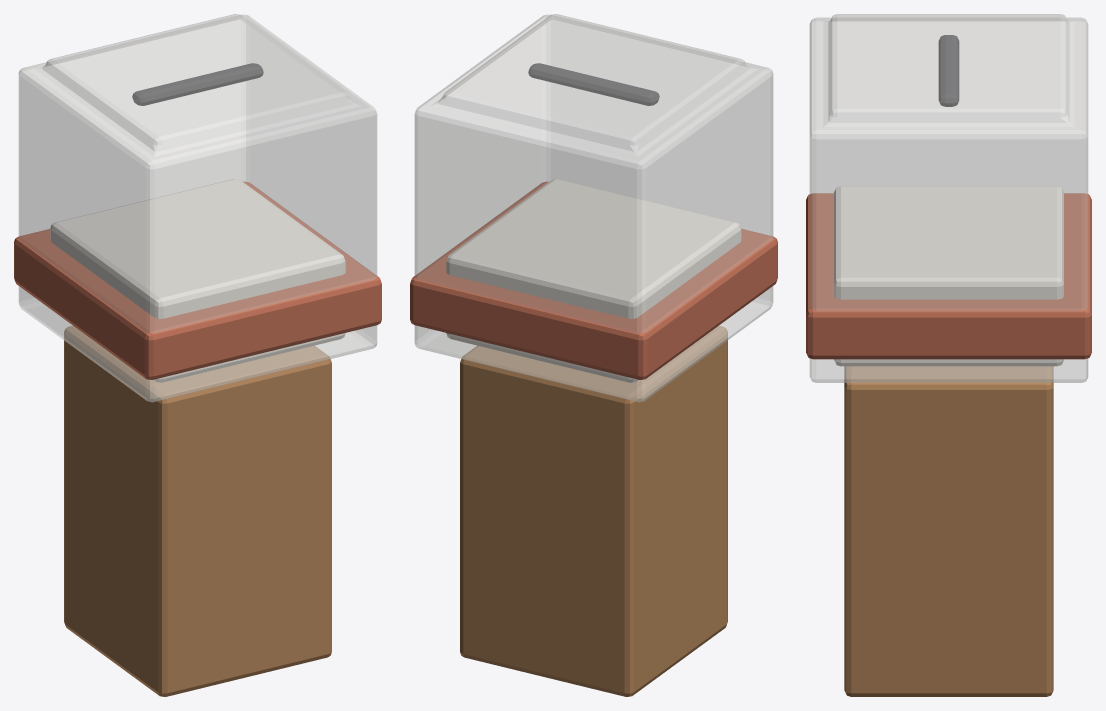
Rendered from Urna.fbx.
3 views of the same model, side by side, from view 1: azimuth 30°, elevation 25°; view 2: azimuth 150°, elevation 25°; view 3: azimuth 270°, elevation 25° (orthographic). The views are drawn at different scales.
Parts seen in each view (by area): view 1: Urna; view 2: Urna; view 3: Urna.
Boxes of the visible parts, box(x1,y1,x2,y2) form: Urna: box(14, 14, 381, 696); Urna: box(410, 14, 777, 696); Urna: box(806, 14, 1091, 696).
Size of the model in its own units: 0.41 by 0.94 by 0.41.
